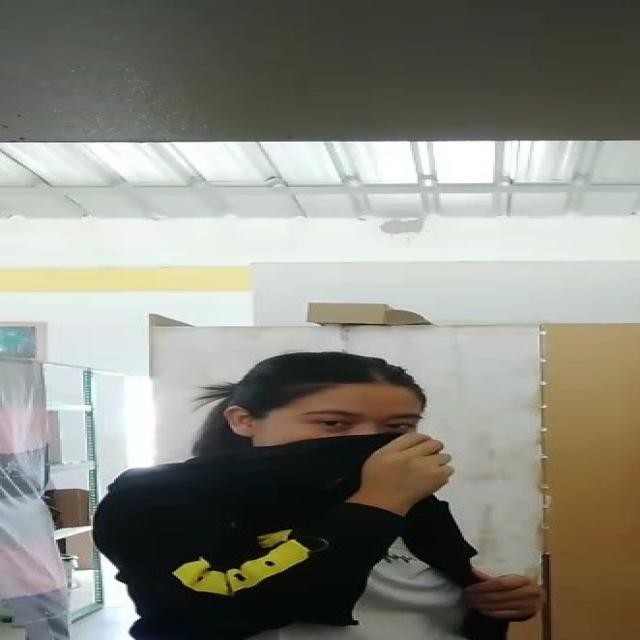8_ropa_rostro: (240, 427, 449, 533)
